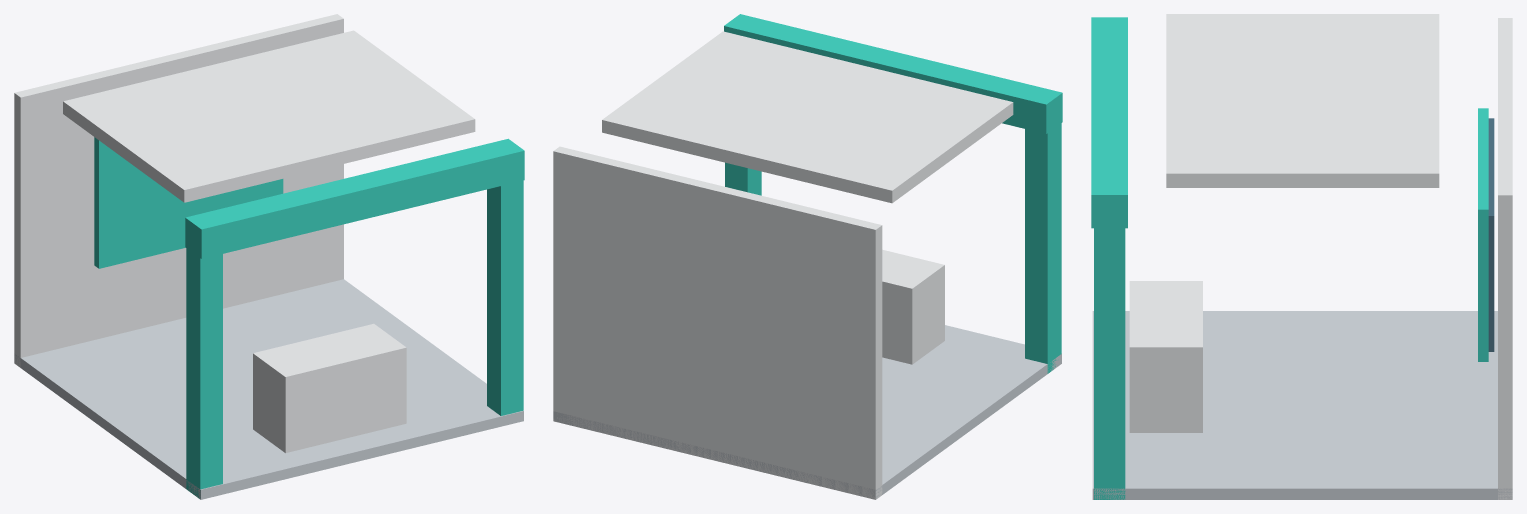
3 views of the same model, side by side, from view 1: azimuth 30°, elevation 25°; view 2: azimuth 150°, elevation 25°; view 3: azimuth 270°, elevation 25° (orthographic). The views are drawn at different scales.
Parts seen in each view (by area): view 1: Exhibition Booth Concept; view 2: Exhibition Booth Concept; view 3: Exhibition Booth Concept.
Part boxes in pixels (bbox=[...]): Exhibition Booth Concept: bbox=[14, 14, 524, 499]; Exhibition Booth Concept: bbox=[553, 14, 1062, 499]; Exhibition Booth Concept: bbox=[1091, 14, 1512, 499].
Size of the model in its own units: 4 by 3.34 by 4.02.
